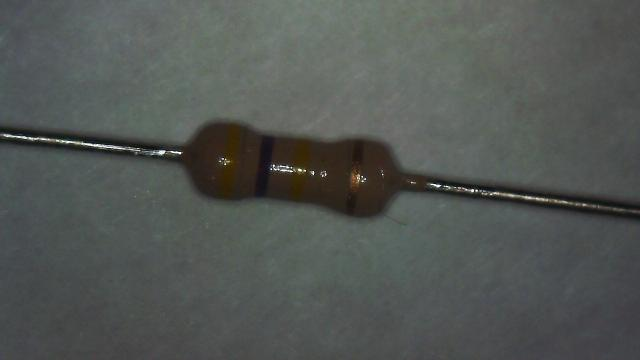gold: (347, 140, 363, 214)
resistor: (175, 91, 410, 239)
violet: (254, 136, 274, 197)
yellow: (218, 124, 242, 199), (290, 139, 310, 201)
